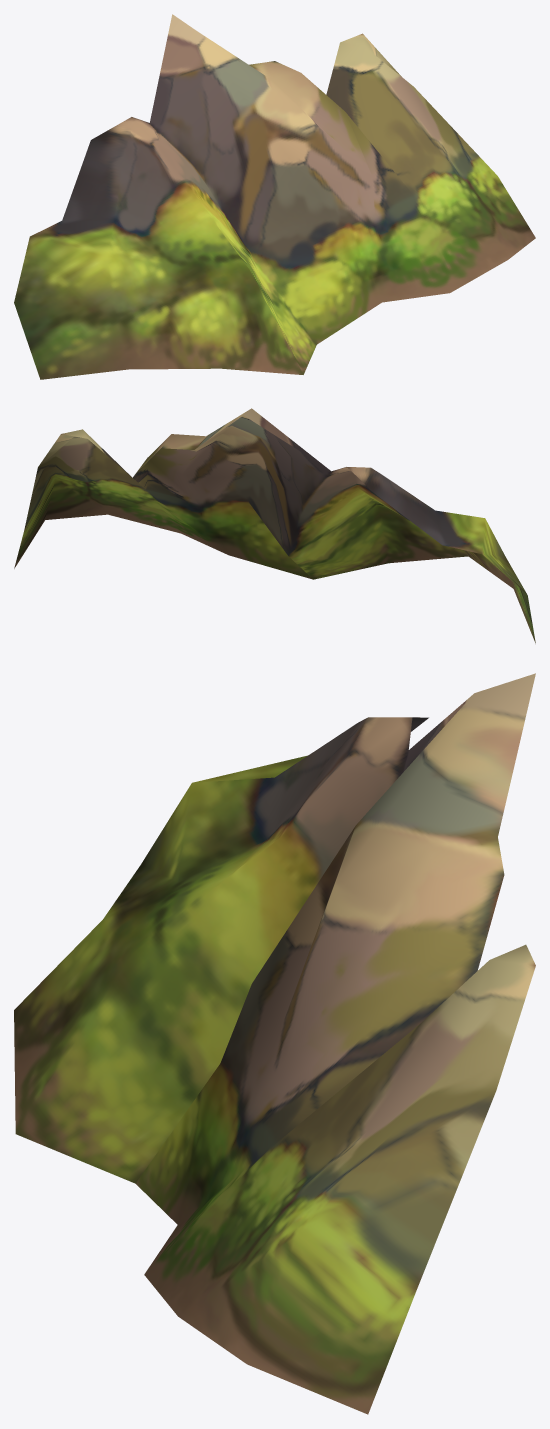
File: map_plain_road19.FBX
3 renders of one model, top to bottom at view 1: azimuth 30°, elevation 25°; view 2: azimuth 150°, elevation 25°; view 3: azimuth 270°, elevation 25°, orthographic. The views are drawn at different scales.
Visible parts, largest first — view 1: Plane119; view 2: Plane119; view 3: Plane119.
Part boxes in pixels (<box>): Plane119: <box>14,14,535,379</box>; Plane119: <box>14,408,535,643</box>; Plane119: <box>14,673,535,1414</box>.
Bounding box in the file's own units: 21.41 × 10.52 × 10.26.
